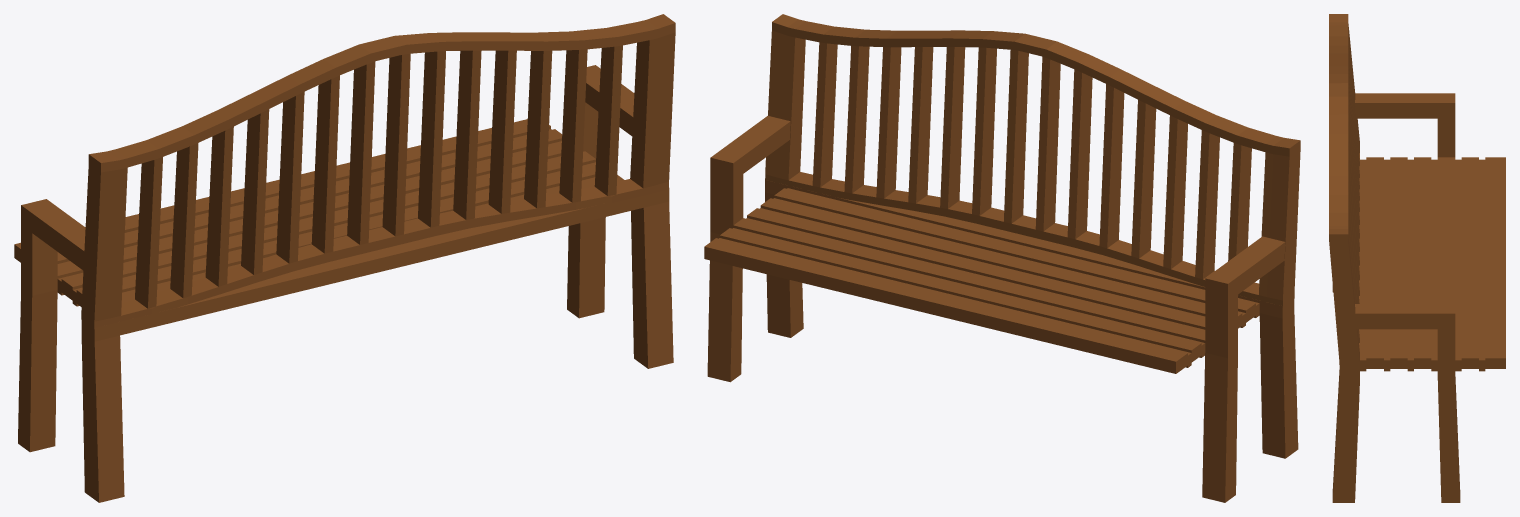
Rendered from WoodenBench.fbx.
The picture shows the model from 3 angles, left to right: view 1: azimuth 30°, elevation 25°; view 2: azimuth 150°, elevation 25°; view 3: azimuth 270°, elevation 25°; orthographic projection. The views are drawn at different scales.
Visible parts, largest first — view 1: Plane; view 2: Plane; view 3: Plane.
Boxes of the visible parts, x1,y1,x2,y2 form: Plane: (14,14,675,502); Plane: (704,14,1300,502); Plane: (1329,14,1505,502).
Bounding box in the file's own units: 346 × 221 × 117.
